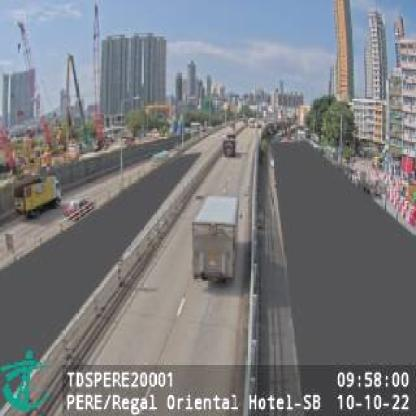Car: (224, 135, 237, 155)
Truck: (192, 192, 236, 283), (14, 178, 59, 219)
